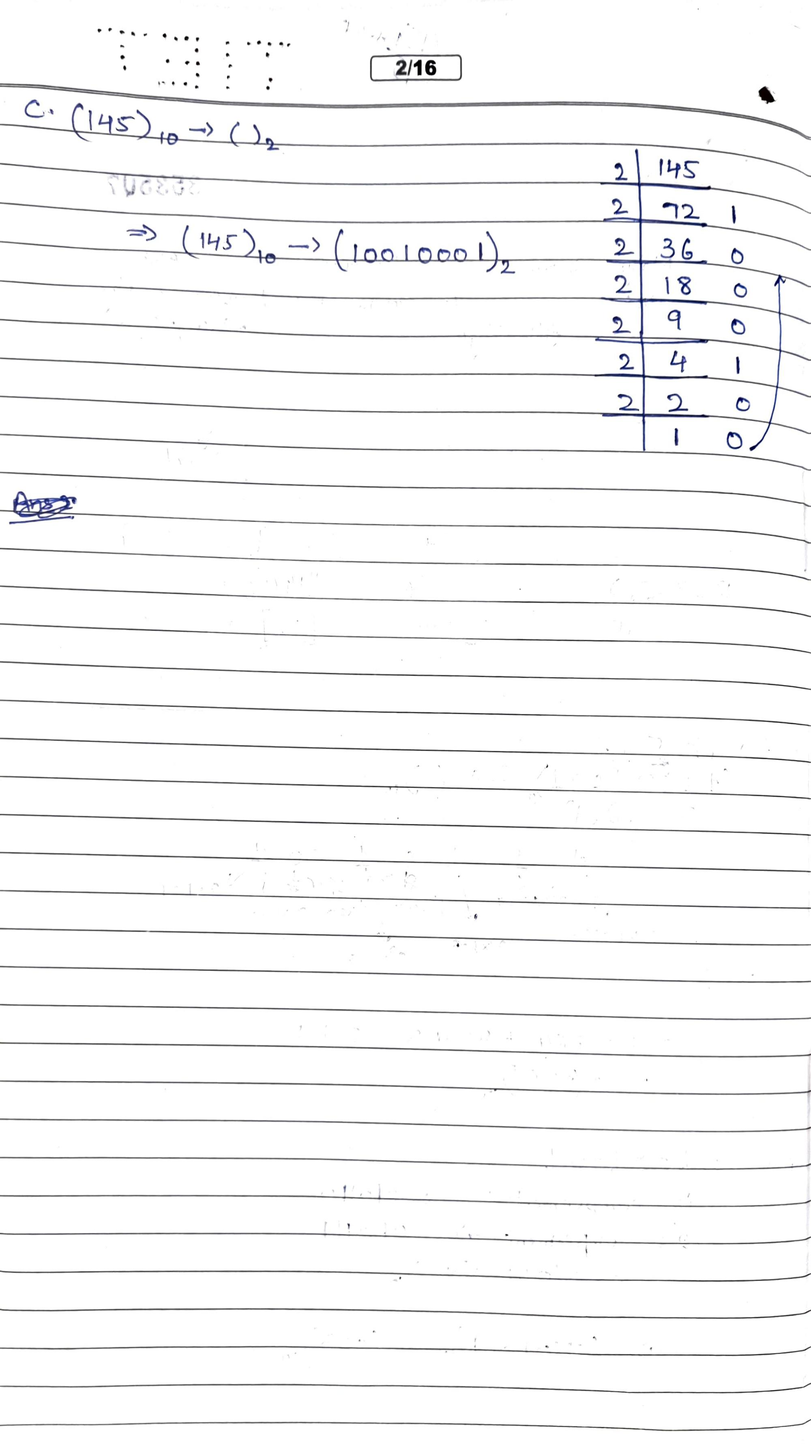cuttings: (8, 490, 78, 526)
